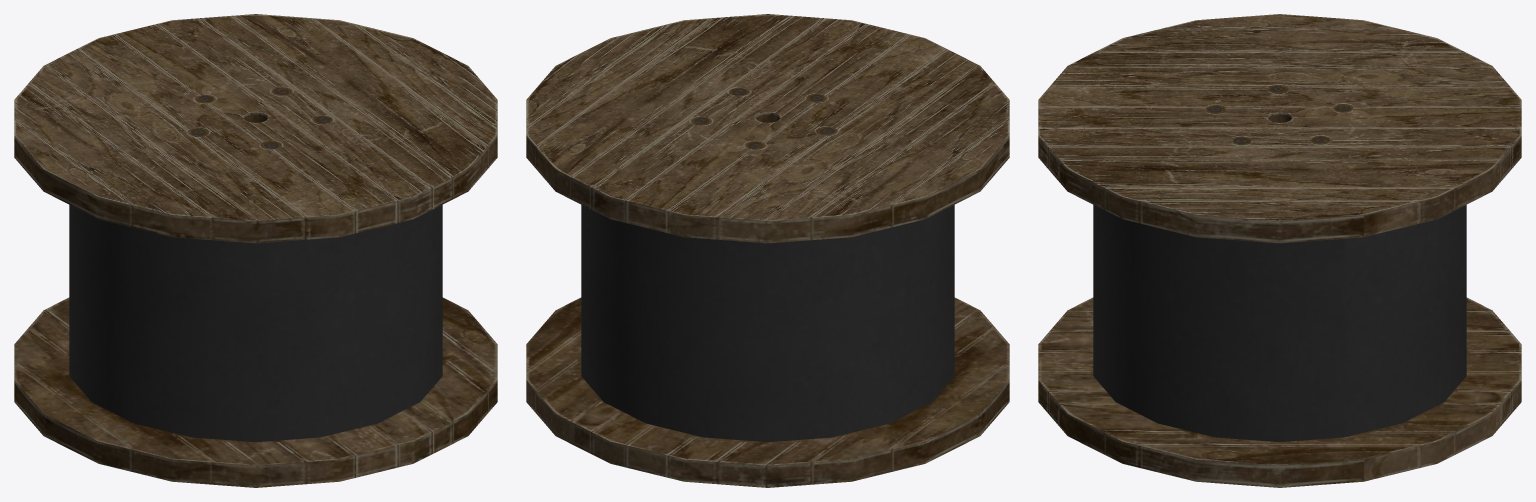
3 views of the same model, side by side, from view 1: azimuth 30°, elevation 25°; view 2: azimuth 150°, elevation 25°; view 3: azimuth 270°, elevation 25° (orthographic).
Visible parts, largest first — view 1: Spool_Cable_Low.001; view 2: Spool_Cable_Low.001; view 3: Spool_Cable_Low.001.
Part boxes in pixels (x1,y1,x2,y2): Spool_Cable_Low.001: [14, 14, 497, 487]; Spool_Cable_Low.001: [526, 14, 1009, 487]; Spool_Cable_Low.001: [1038, 14, 1521, 487].
Size of the model in its own units: 1 by 0.9848 by 0.6.
1 material, 1 textured.
